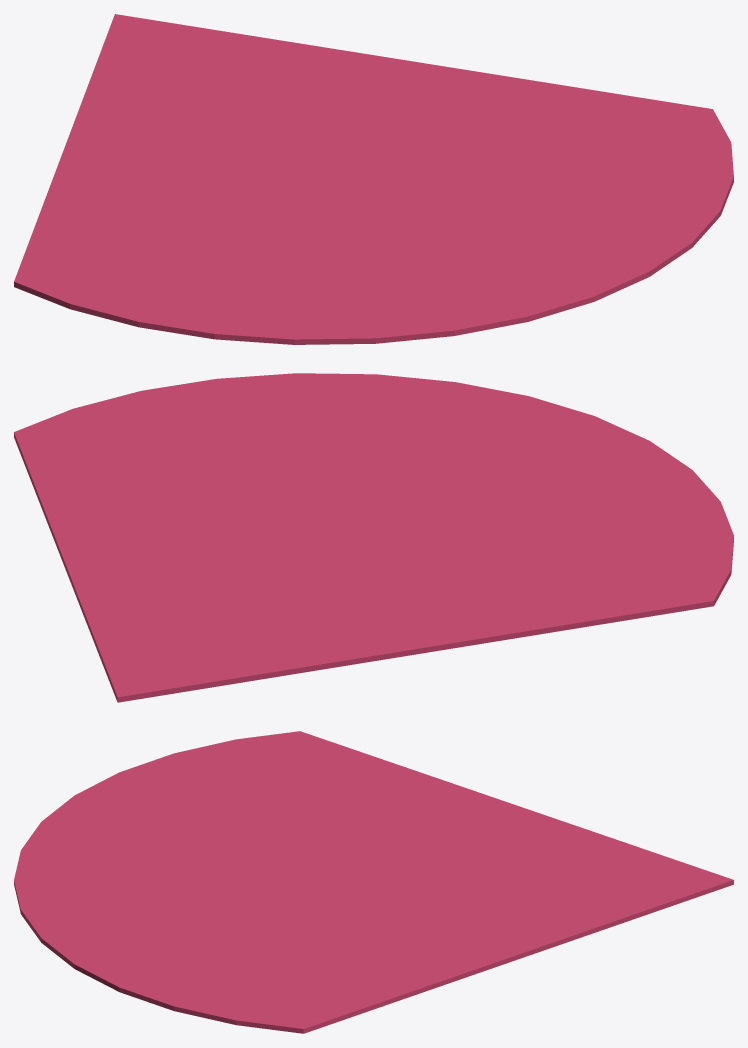
Rendered from FOV.fbx.
The picture shows the model from 3 angles, top to bottom: view 1: azimuth 30°, elevation 25°; view 2: azimuth 150°, elevation 25°; view 3: azimuth 270°, elevation 25°; orthographic projection. The views are drawn at different scales.
Visible parts, largest first — view 1: FOV; view 2: FOV; view 3: FOV.
Boxes of the visible parts, box(x1,y1,x2,y2) form: FOV: box(14, 14, 733, 344); FOV: box(14, 373, 733, 702); FOV: box(14, 731, 733, 1033).
Size of the model in its own units: 353 by 2.6 by 360.
